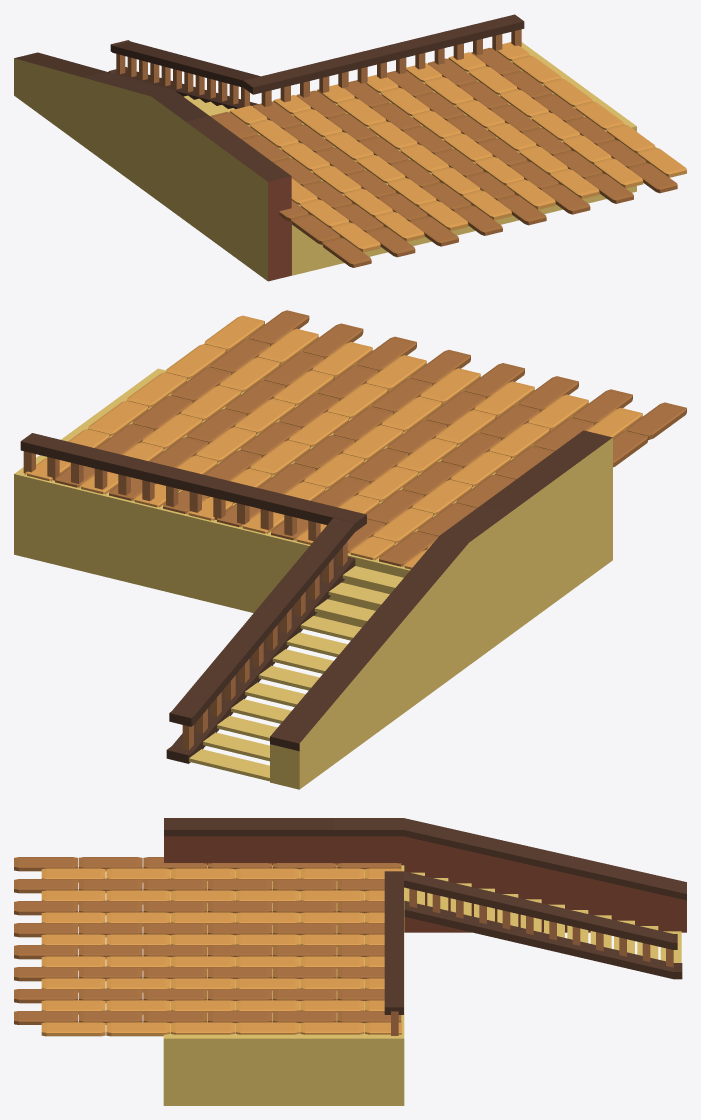
The model's file is StairCase.glb.
3 views of the same model, one above another, from view 1: azimuth 30°, elevation 25°; view 2: azimuth 150°, elevation 25°; view 3: azimuth 270°, elevation 25° (orthographic). The views are drawn at different scales.
Visible parts, largest first — view 1: Cube.109; view 2: Cube.109; view 3: Cube.109.
Boxes of the visible parts, x1,y1,x2,y2 form: Cube.109: (14, 14, 686, 281); Cube.109: (14, 310, 686, 789); Cube.109: (14, 818, 686, 1105).
Size of the model in its own units: 31 by 8.26 by 47.59.
